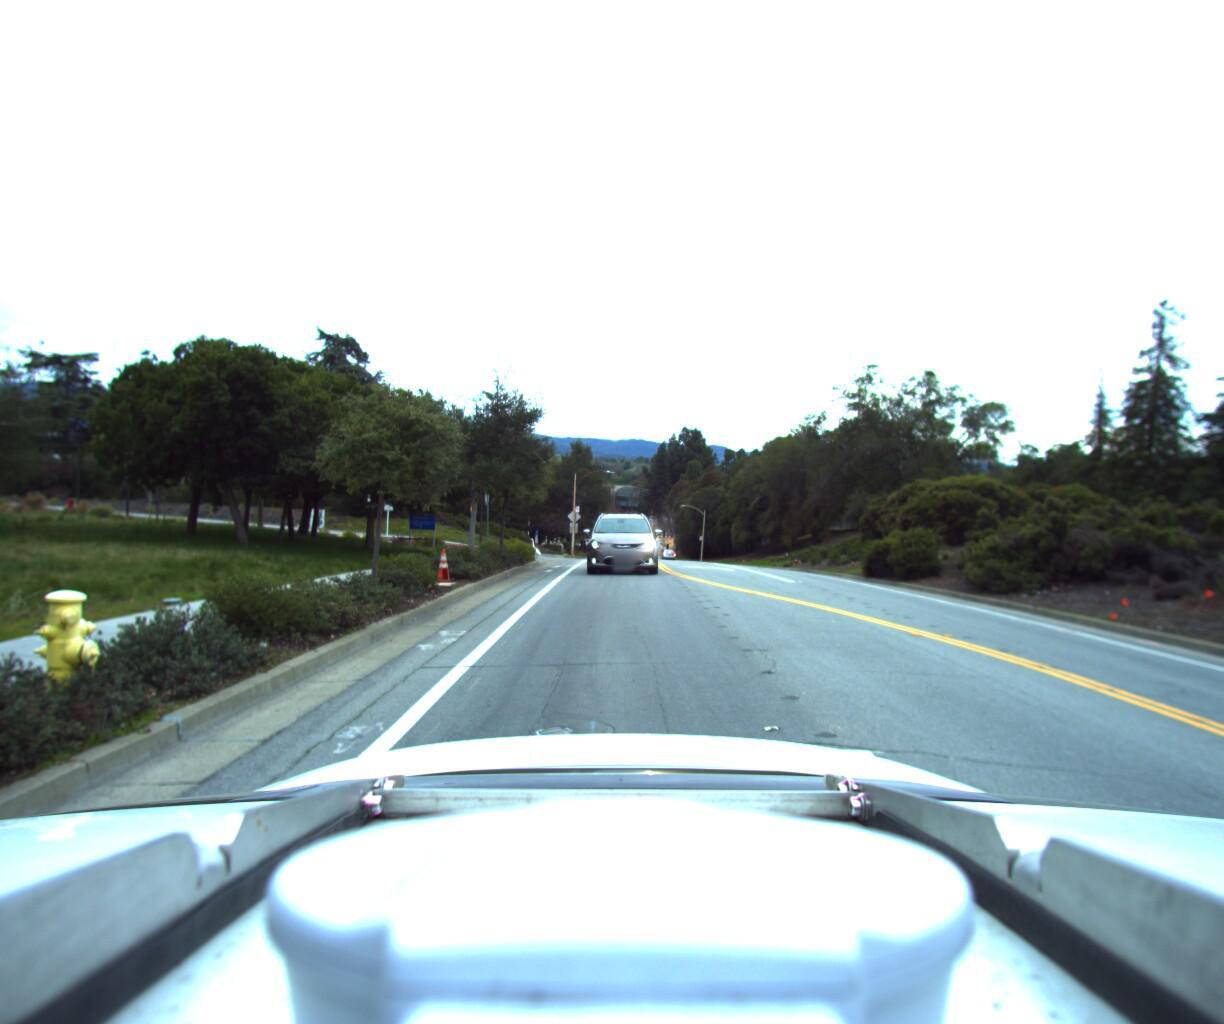car: (582, 500, 659, 574)
